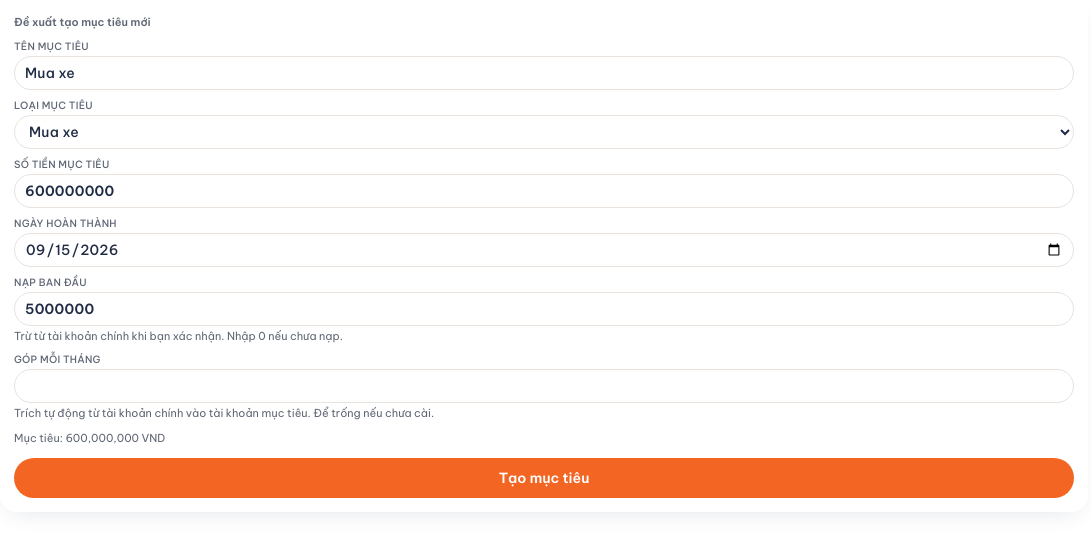
Test: AgentGoalCreateCard › refuses a date that is not after the app's today, and sends nothing
The width and height of the screenshot is (1091, 556).
Click the button "Tạo mục tiêu". click: {"x": 544, "y": 478}
box: [14, 458, 1074, 498]
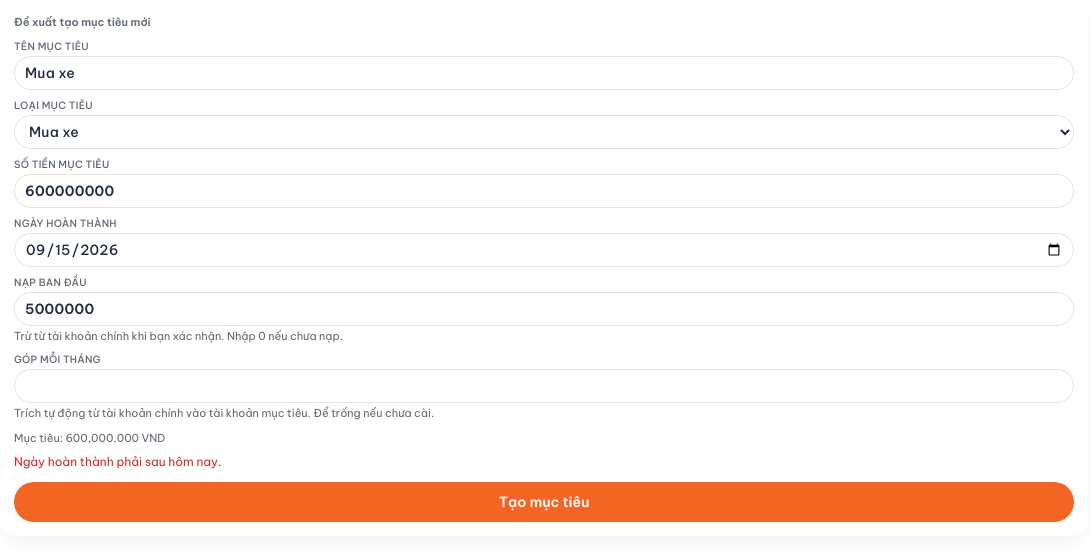
Expected: the message shows "sau hôm nay", [14, 454, 221, 469]
